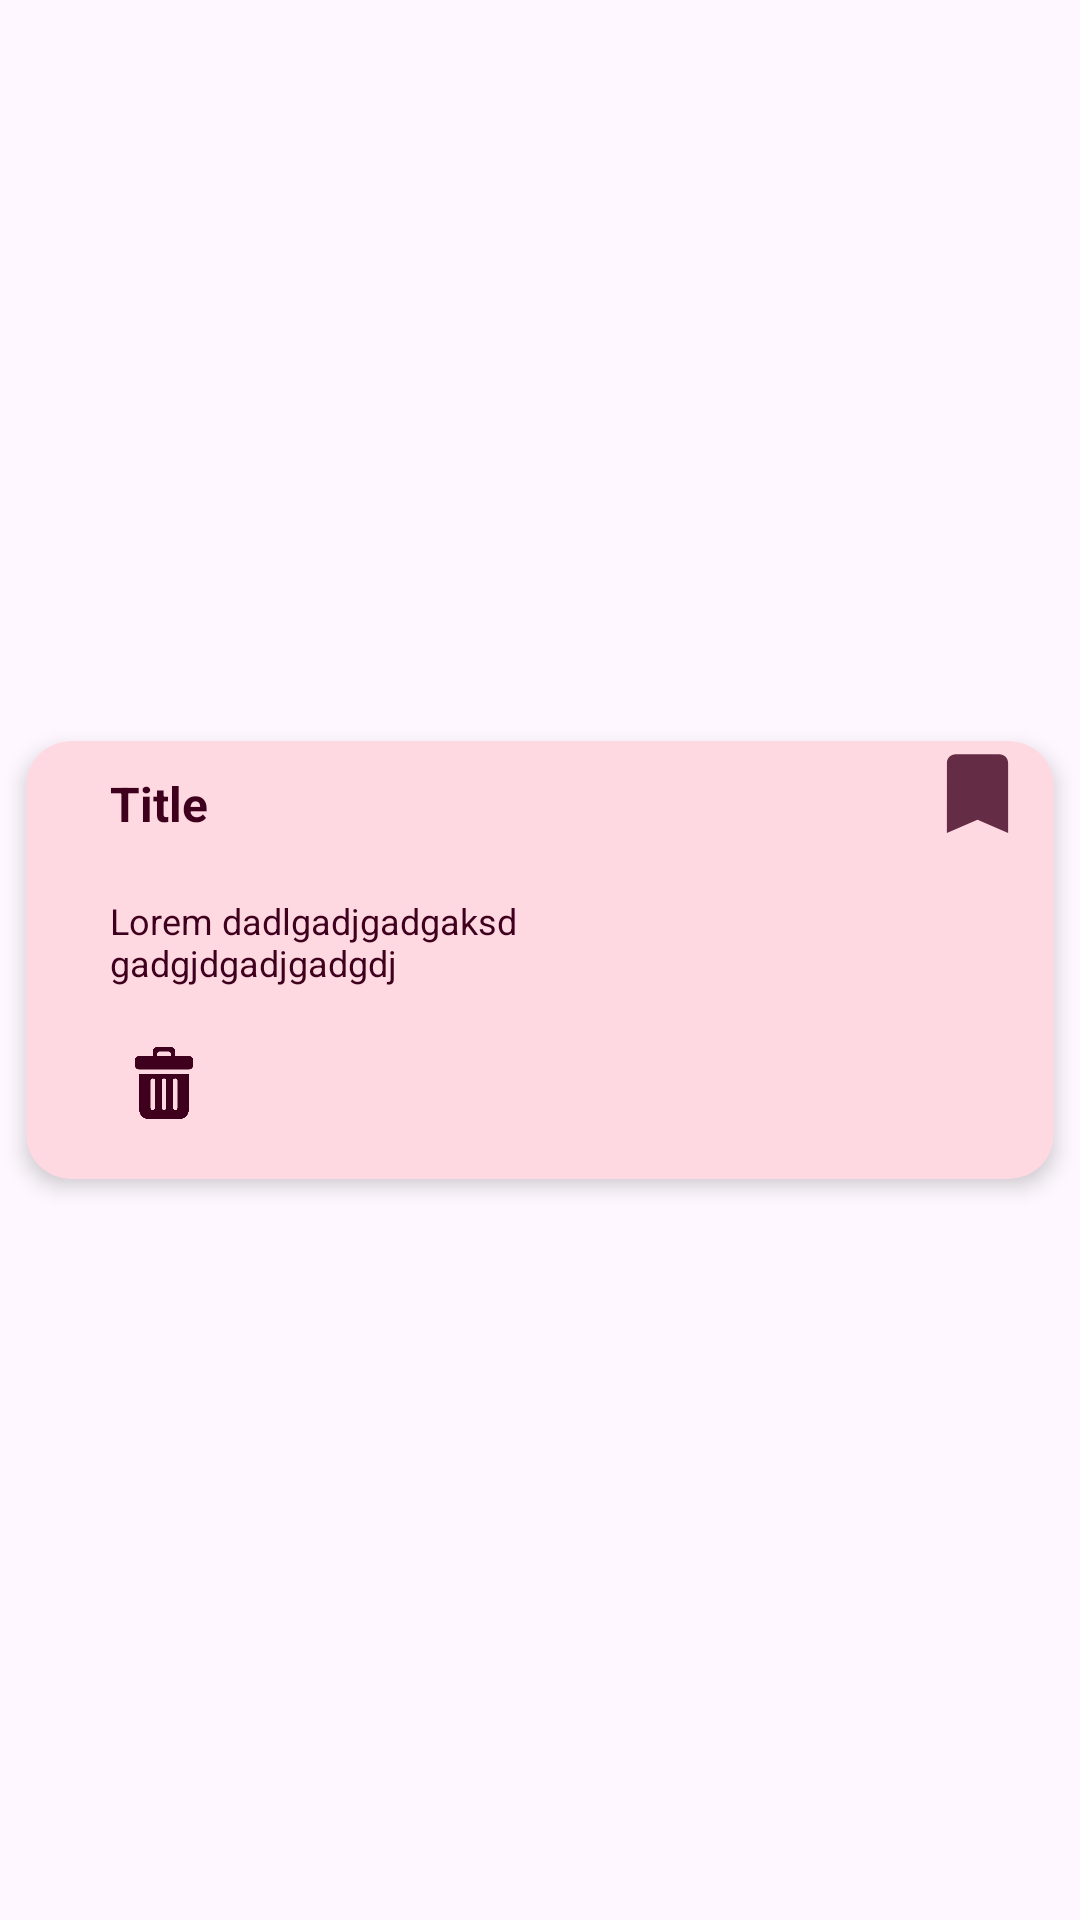

Locate icon controls on the screen. Image size 1080px x 1920px, boxes as (x1, y1, x2, y2).
bookmarked: (947, 754, 1008, 833)
delete note: (135, 1047, 193, 1119)
